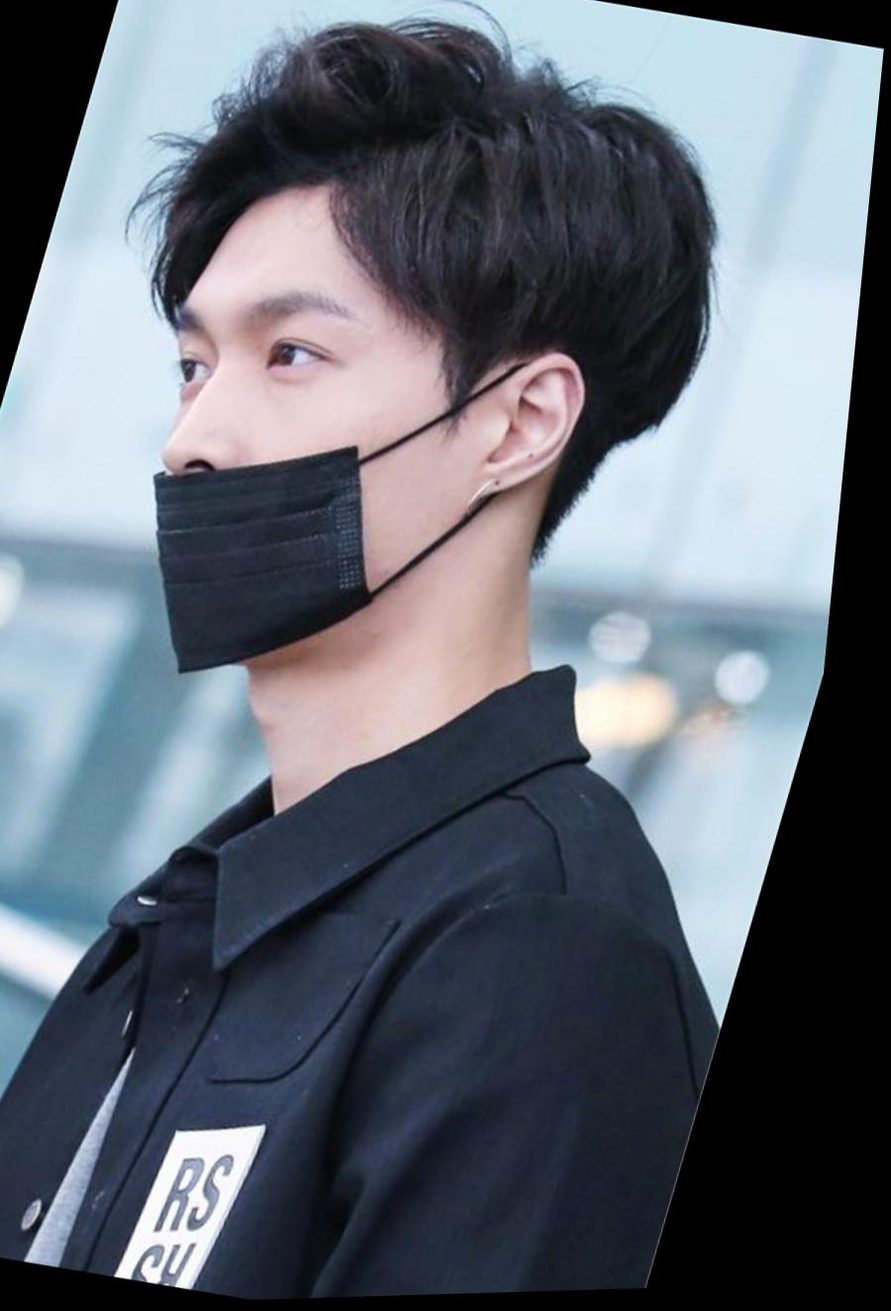WRONG: (83, 234, 500, 711)
